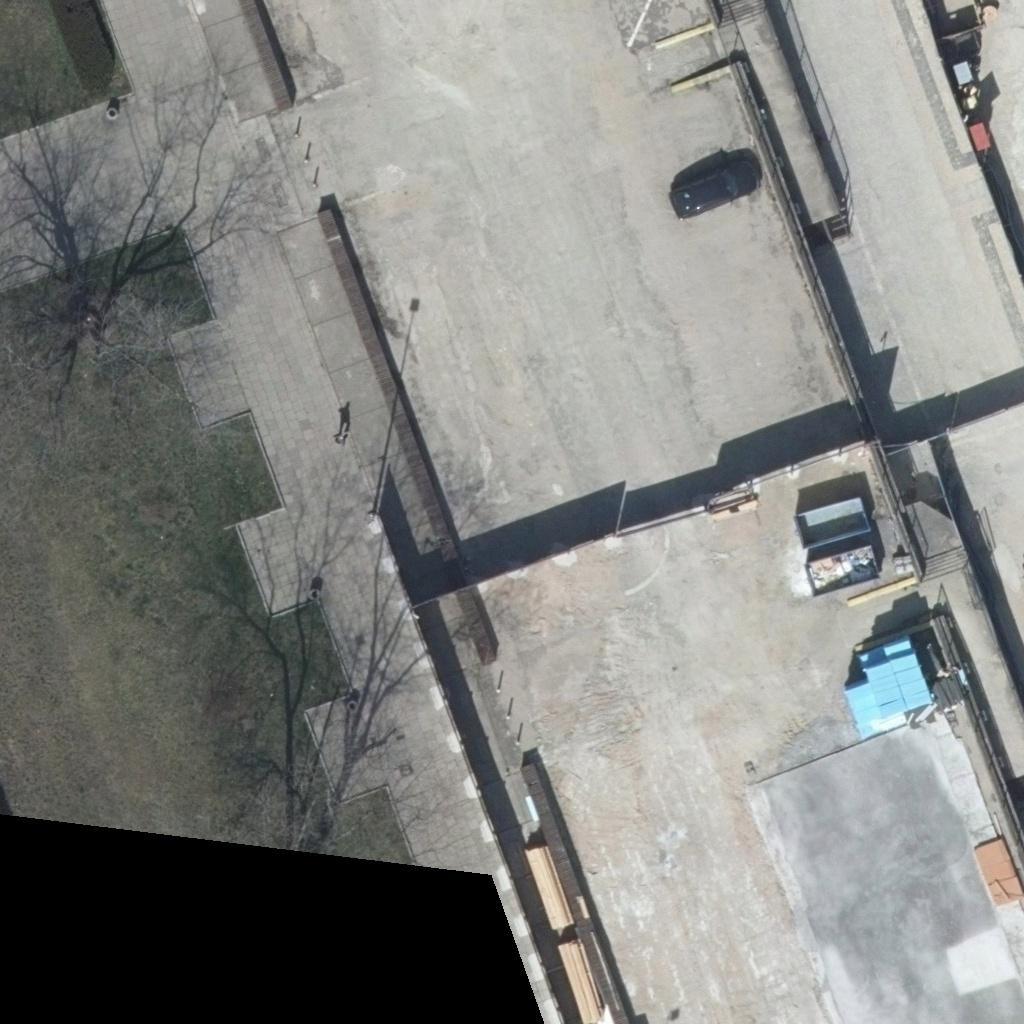samochod_osobowy: (669, 152, 761, 223)
